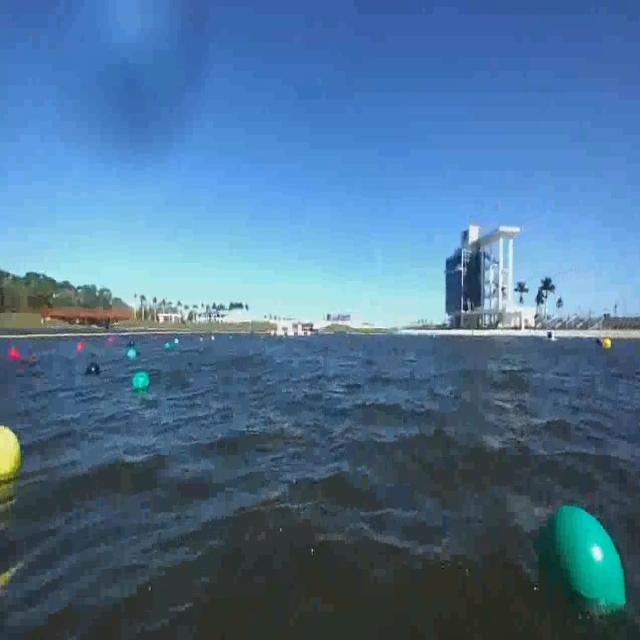green-buoy: (521, 495, 637, 637)
yellow-buoy: (0, 423, 23, 487)
